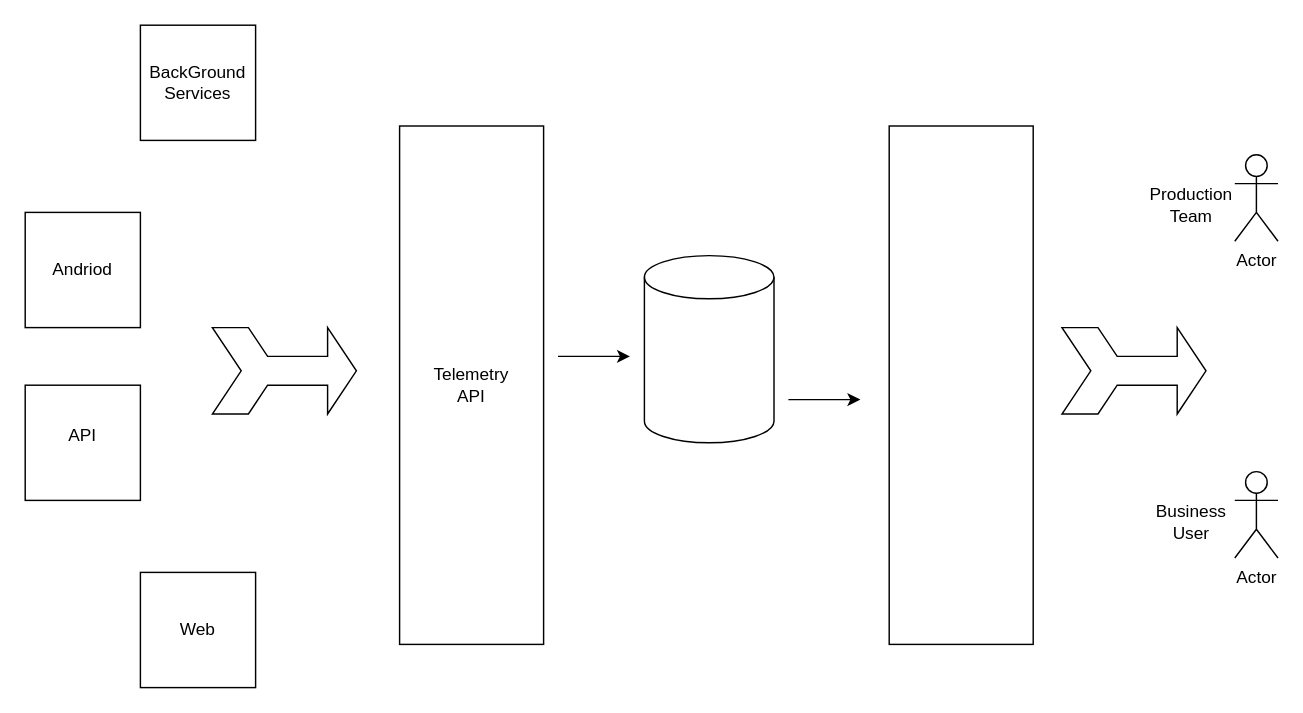
The diagram is 1303 pixels wide and 713 high, and some of its shapes have lost their labels. Each missing label, with the box of its shape:
Data Presentation System: (888, 125, 1033, 644)
Telemetry Data: (643, 254, 774, 443)
